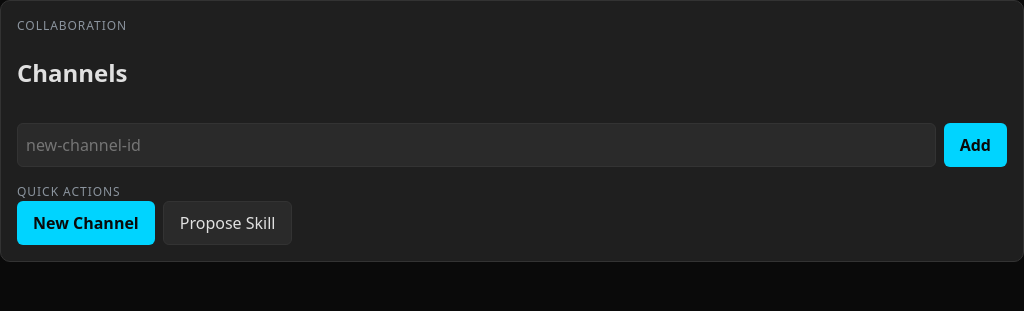
Test: Sidebar create channel › shows the server message when create is rejected
Type "plan-demo" into the field with placeholder "new-channel-id". click: (476, 145)
box: [17,123,936,167]
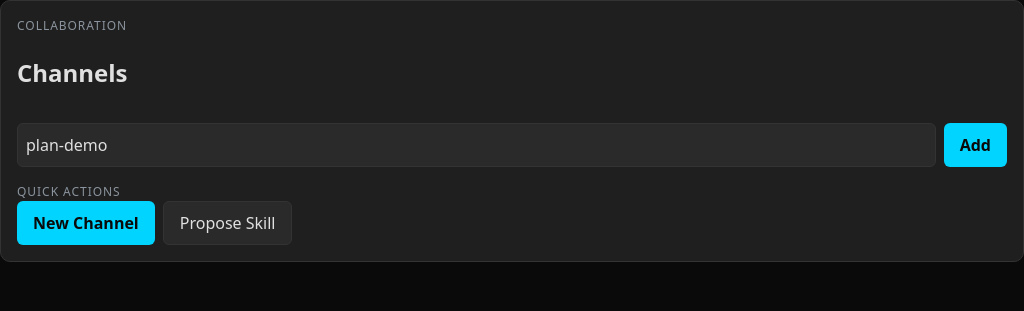
Click the button with test id "create-channel-button". click: (975, 145)
box: [944,123,1007,167]
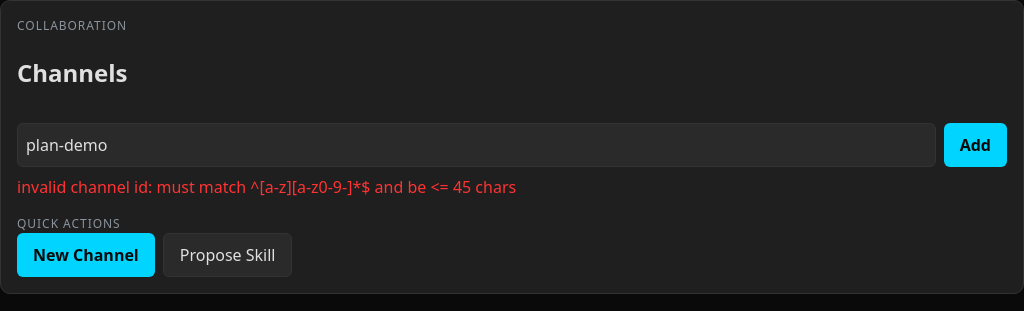
Expected: the message shows "invalid channel id: must match", [17,176,516,198]
